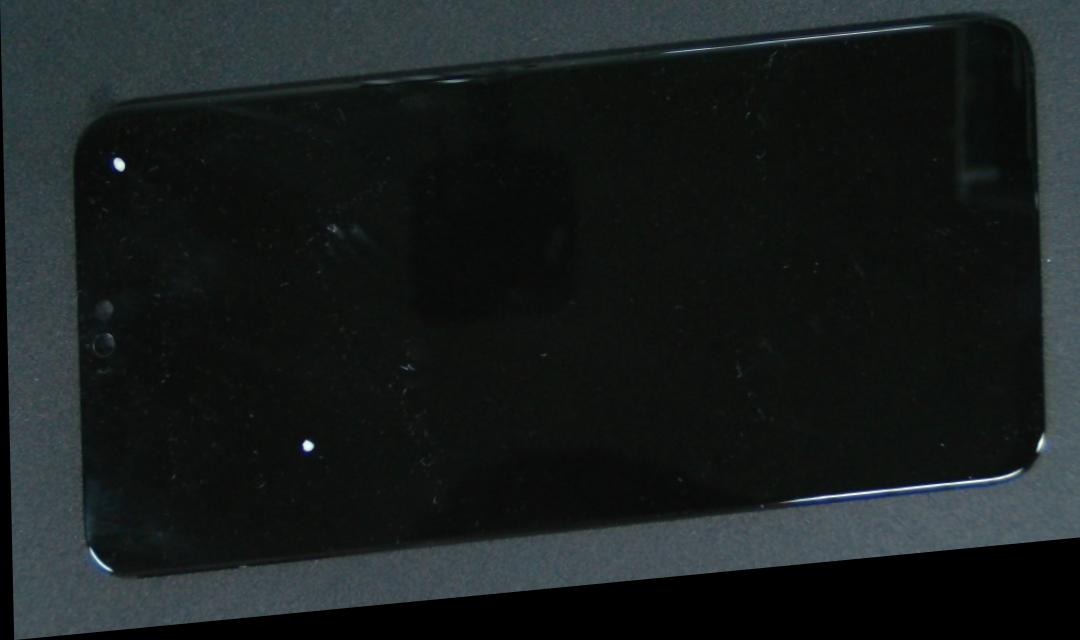Dislodged Screen: (102, 142, 150, 194), (284, 427, 325, 471)
